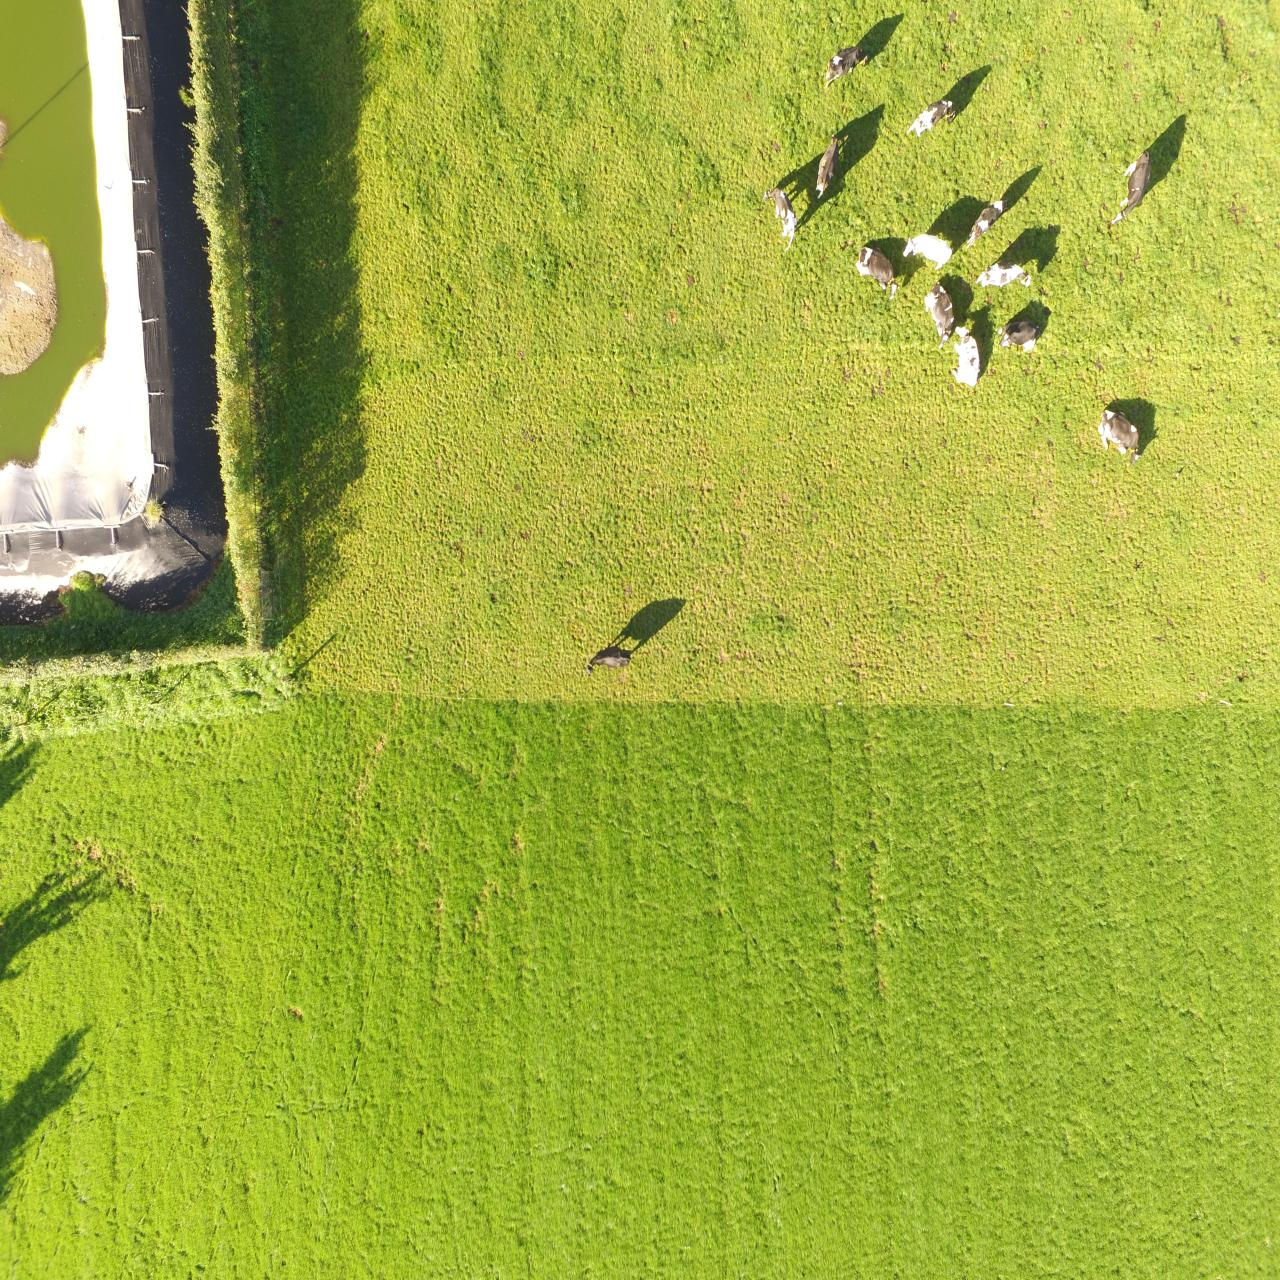cow: (1111, 149, 1149, 230), (906, 90, 964, 138), (1095, 407, 1143, 463), (858, 240, 900, 301), (974, 257, 1046, 291), (966, 198, 1013, 250), (762, 185, 798, 251), (920, 280, 956, 346), (898, 230, 953, 271), (811, 134, 844, 200), (818, 43, 869, 87), (952, 325, 982, 388), (995, 318, 1041, 353), (584, 648, 632, 681)
